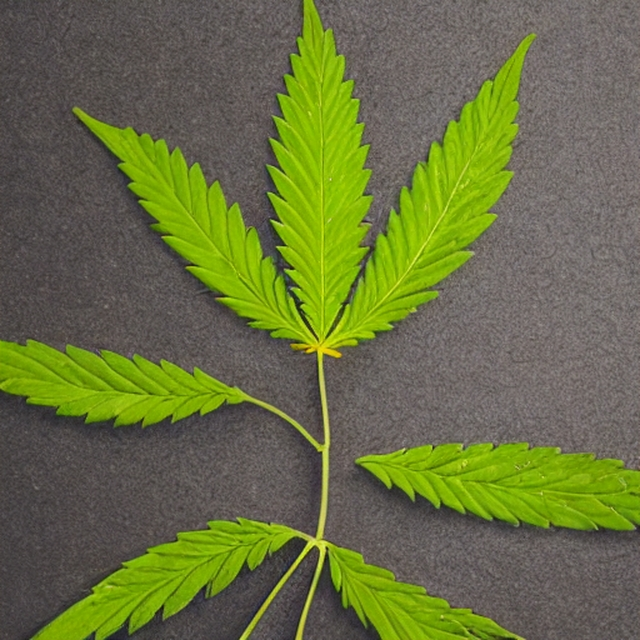Marijuana Leaf: (0, 0, 640, 640), (325, 30, 536, 354), (70, 104, 312, 346), (263, 0, 374, 342), (13, 515, 311, 639), (354, 438, 639, 532)
